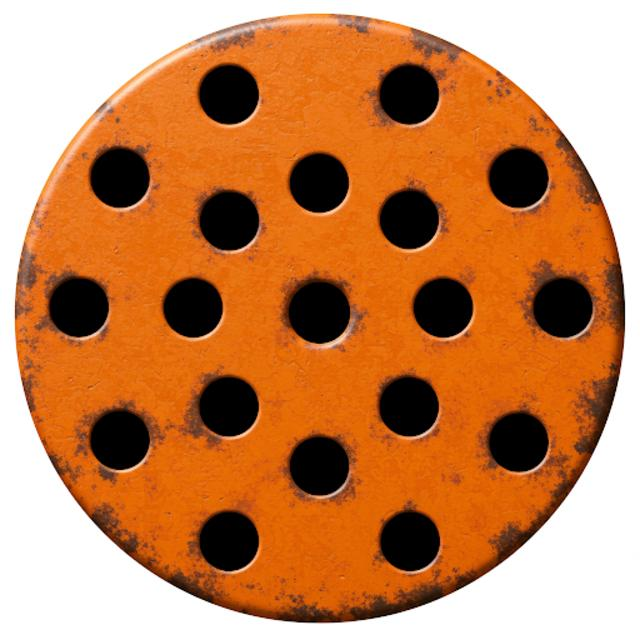Hole: (280, 276, 356, 346), (88, 405, 166, 472), (285, 434, 356, 502), (376, 185, 448, 251), (530, 269, 596, 340), (485, 145, 553, 213), (197, 186, 266, 253), (485, 407, 553, 474), (374, 61, 442, 128), (193, 374, 262, 439), (46, 273, 111, 342), (88, 145, 153, 212), (160, 275, 225, 340), (375, 375, 440, 440), (410, 276, 476, 340), (197, 64, 263, 128), (287, 151, 352, 215), (196, 509, 261, 572), (380, 505, 441, 571)
